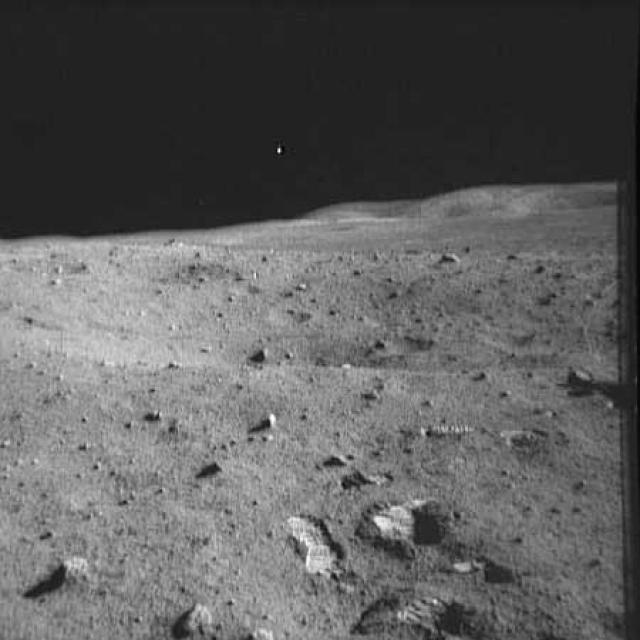crater: (364, 328, 436, 362), (259, 304, 317, 332)
rock: (172, 602, 223, 638), (54, 551, 98, 590), (318, 449, 356, 469), (204, 449, 227, 481), (254, 407, 284, 431), (471, 366, 498, 387), (255, 342, 279, 364), (146, 404, 168, 427), (364, 382, 387, 402), (442, 246, 466, 265), (158, 359, 187, 374), (422, 396, 444, 412), (497, 385, 514, 404), (49, 274, 67, 288)
